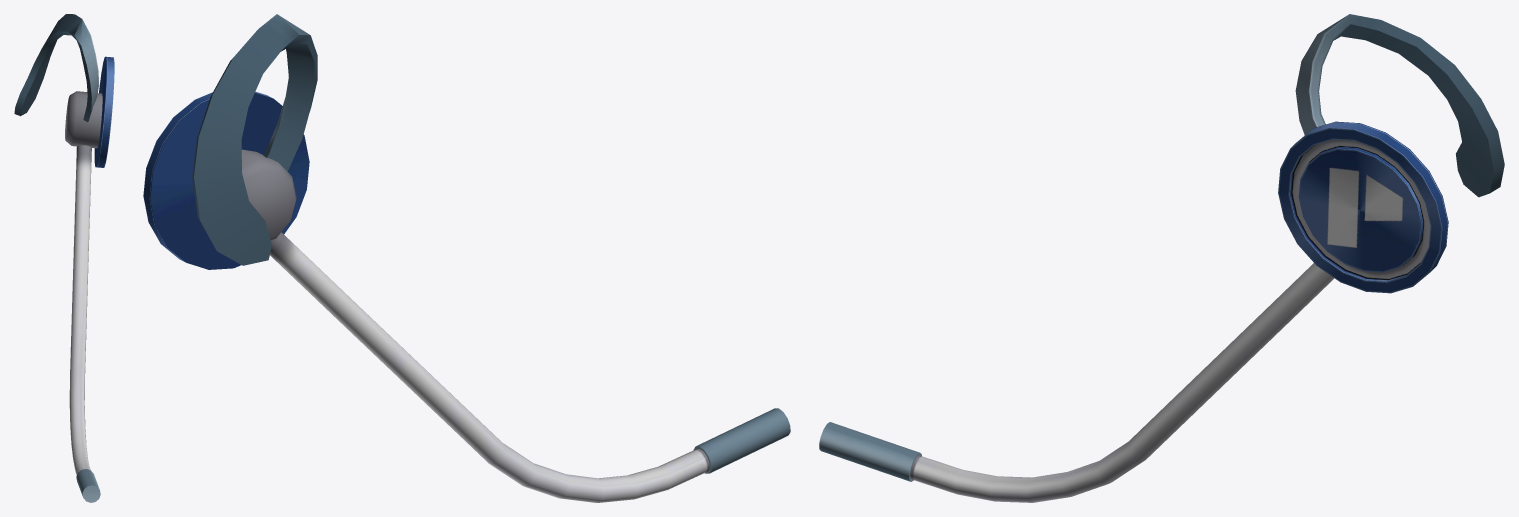
Rendered from EntrainingIntercomChiaki.fbx.
3 renders of one model, left to right at view 1: azimuth 30°, elevation 25°; view 2: azimuth 150°, elevation 25°; view 3: azimuth 270°, elevation 25°, orthographic. The views are drawn at different scales.
Visible parts, largest first — view 1: EntrainingIntercomChiaki; view 2: EntrainingIntercomChiaki; view 3: EntrainingIntercomChiaki.
Part boxes in pixels (x1,y1,x2,y2): EntrainingIntercomChiaki: [14, 14, 114, 502]; EntrainingIntercomChiaki: [143, 14, 790, 502]; EntrainingIntercomChiaki: [819, 14, 1504, 502].
Bounding box in the file's own units: 0.0473 × 0.0749 × 0.081.
Materials: 1 (1 with a texture image).
